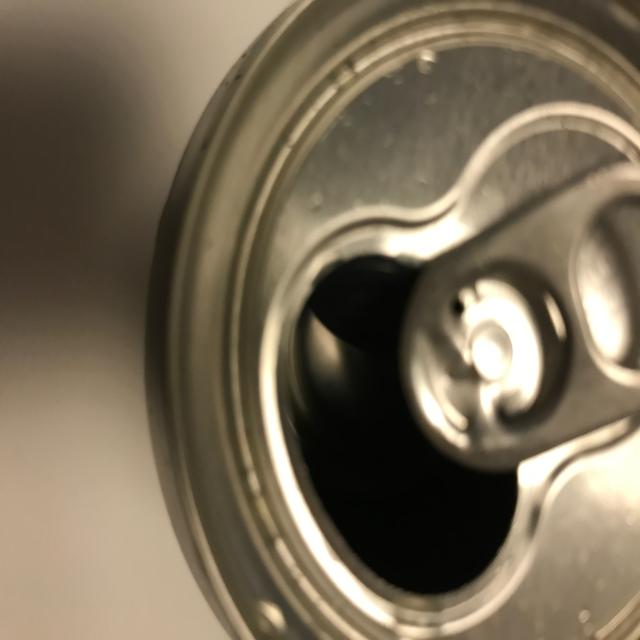metal: (142, 1, 638, 638)
